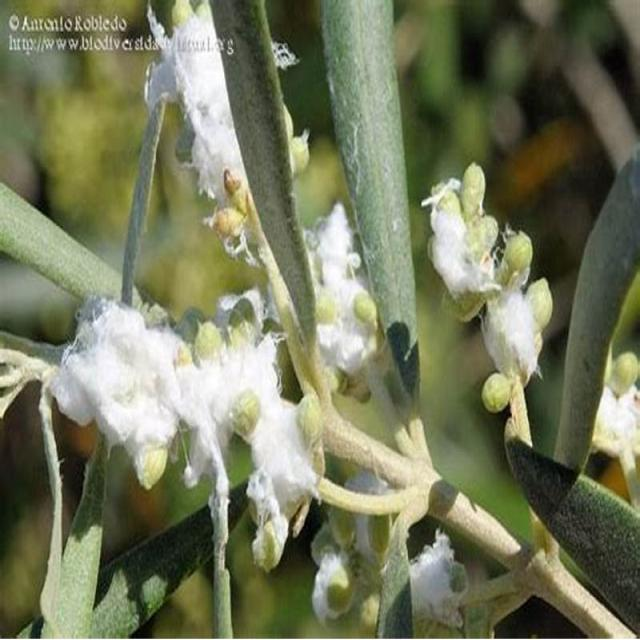Psyllid: (51, 300, 322, 570), (421, 162, 552, 438), (145, 0, 263, 267), (304, 203, 389, 398), (312, 510, 391, 634), (410, 528, 468, 635), (594, 351, 640, 474), (284, 104, 310, 178), (271, 40, 300, 68)
